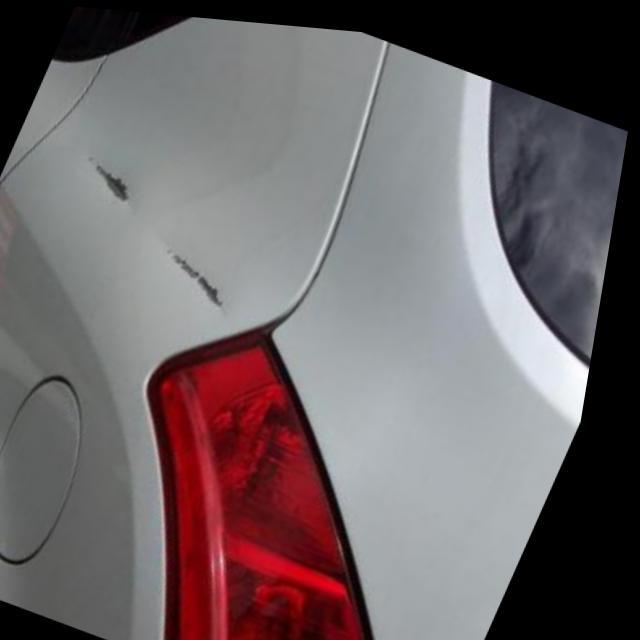crack: (86, 145, 142, 211), (173, 242, 230, 301)
